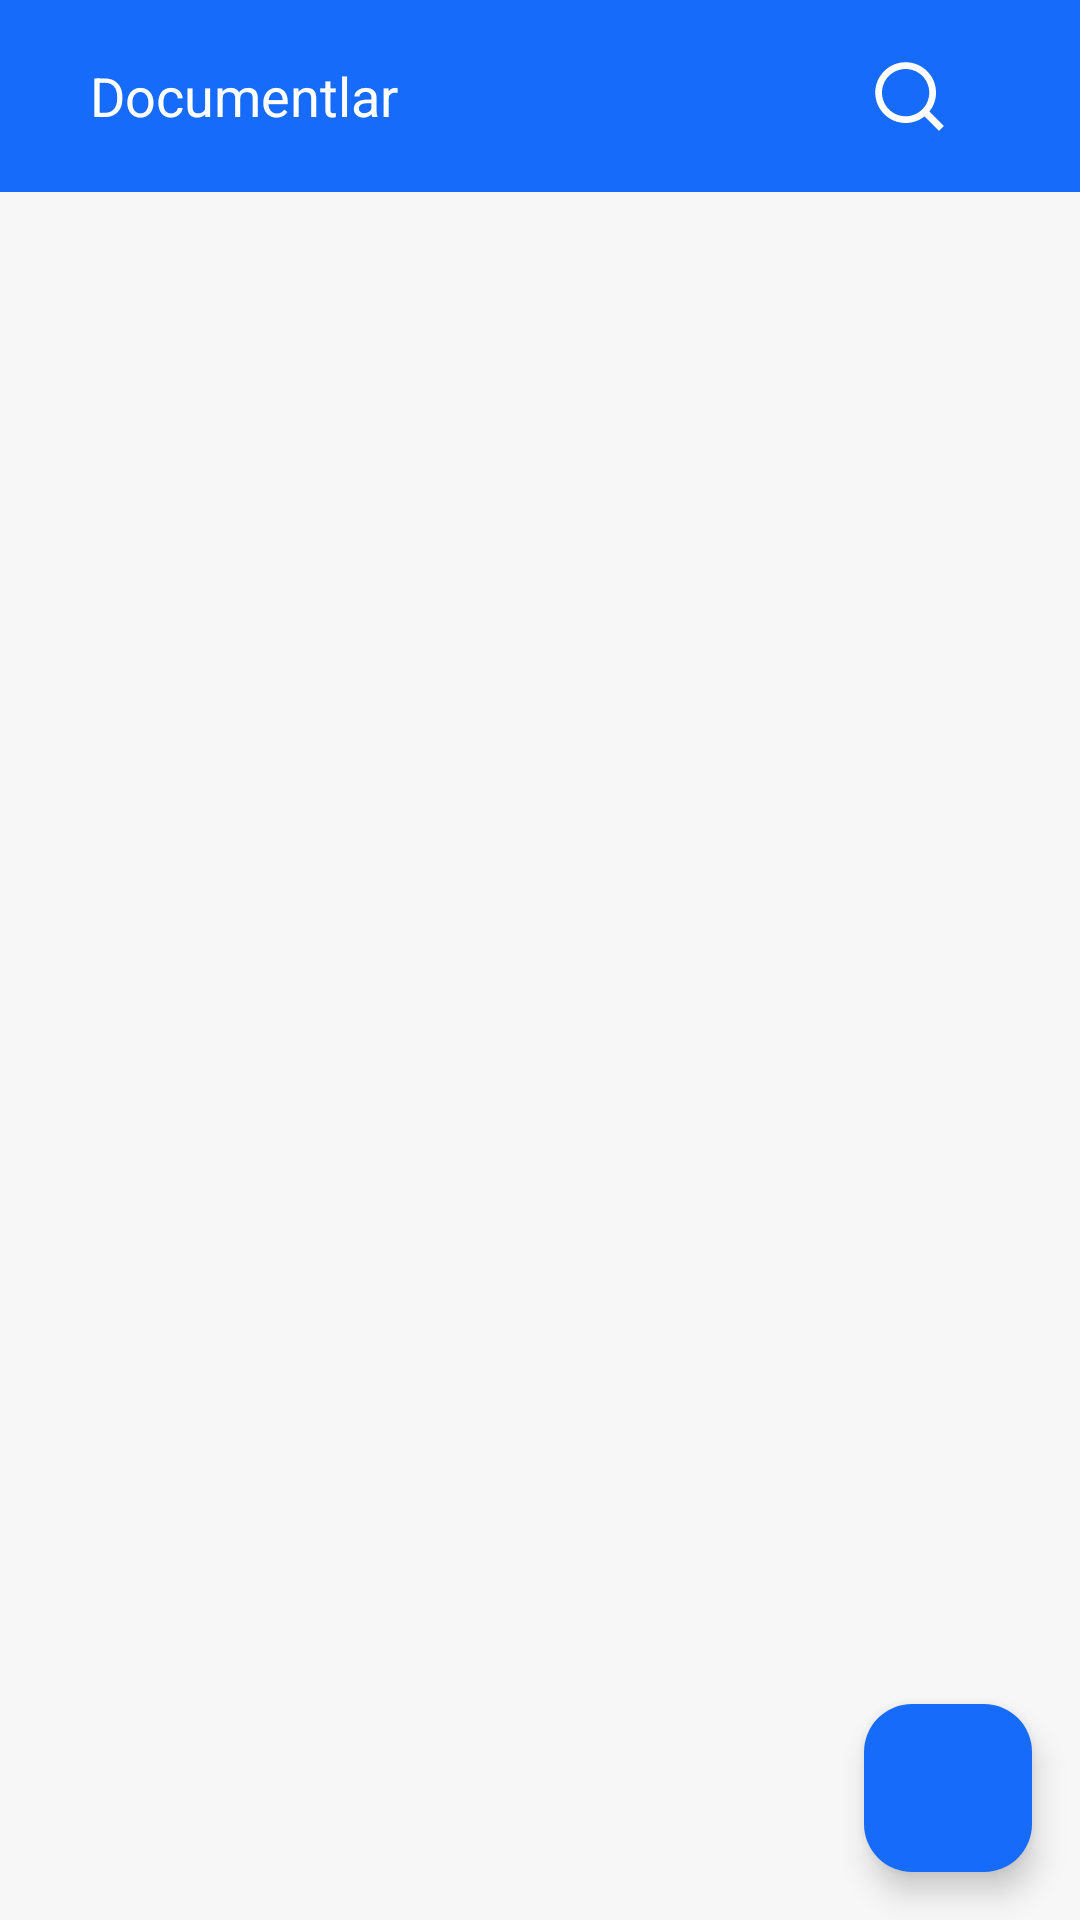

Icon bounding boxes for this 1080px x 1920px phone screenshot, format (x1, y1, x2, y2):
search: (875, 62, 944, 131)
